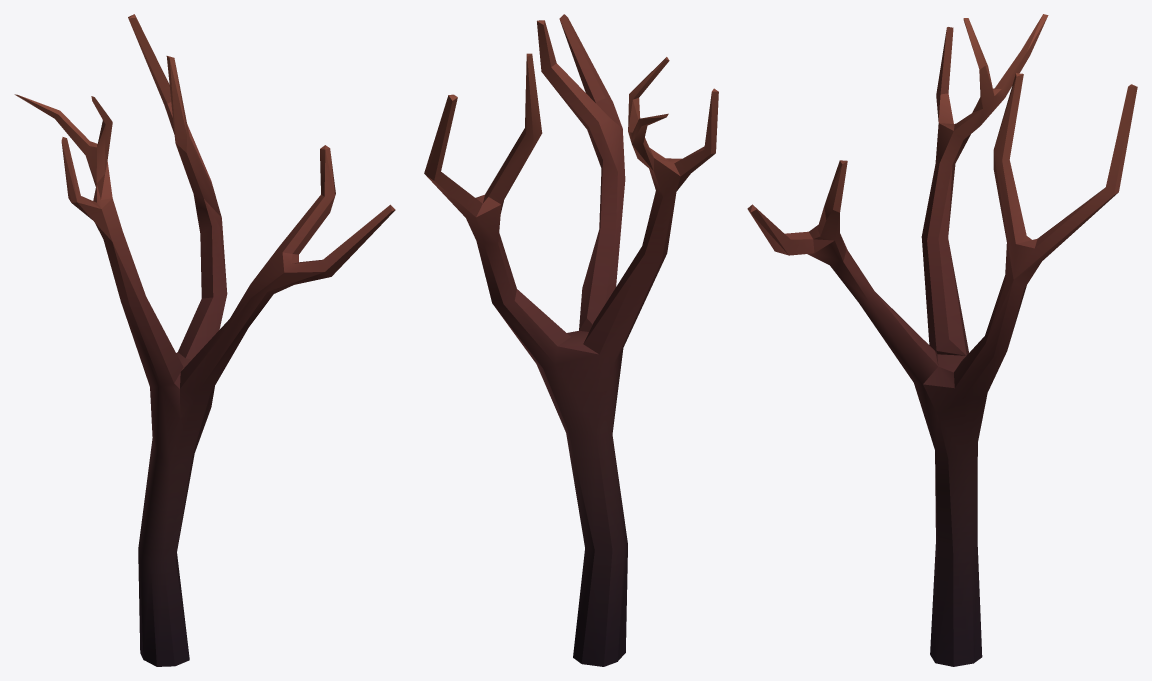
File: DeadTree4.fbx
3 views of the same model, side by side, from view 1: azimuth 30°, elevation 25°; view 2: azimuth 150°, elevation 25°; view 3: azimuth 270°, elevation 25° (orthographic). The views are drawn at different scales.
Visible parts, largest first — view 1: DeadTree4; view 2: DeadTree4; view 3: DeadTree4.
Part boxes in pixels (bbox=[...]): DeadTree4: bbox=[14, 14, 395, 666]; DeadTree4: bbox=[424, 14, 718, 666]; DeadTree4: bbox=[747, 14, 1137, 666].
Bounding box in the file's own units: 2.74 × 6.23 × 3.66.
